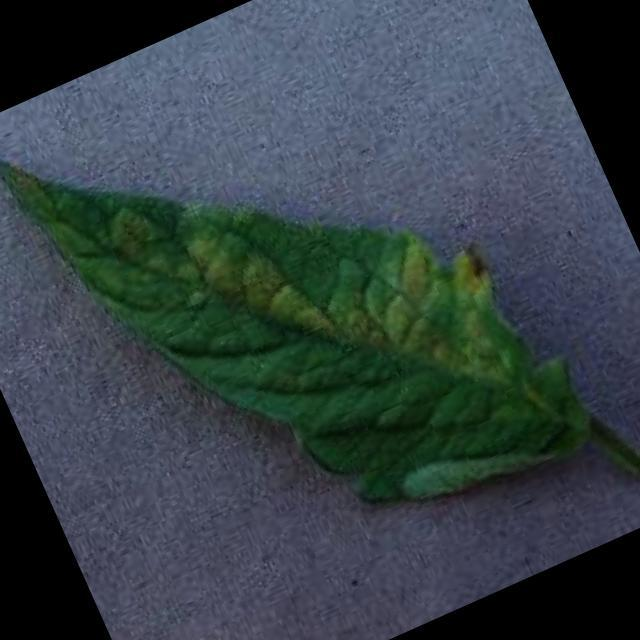Tomato mold leaf: (0, 0, 604, 633)
